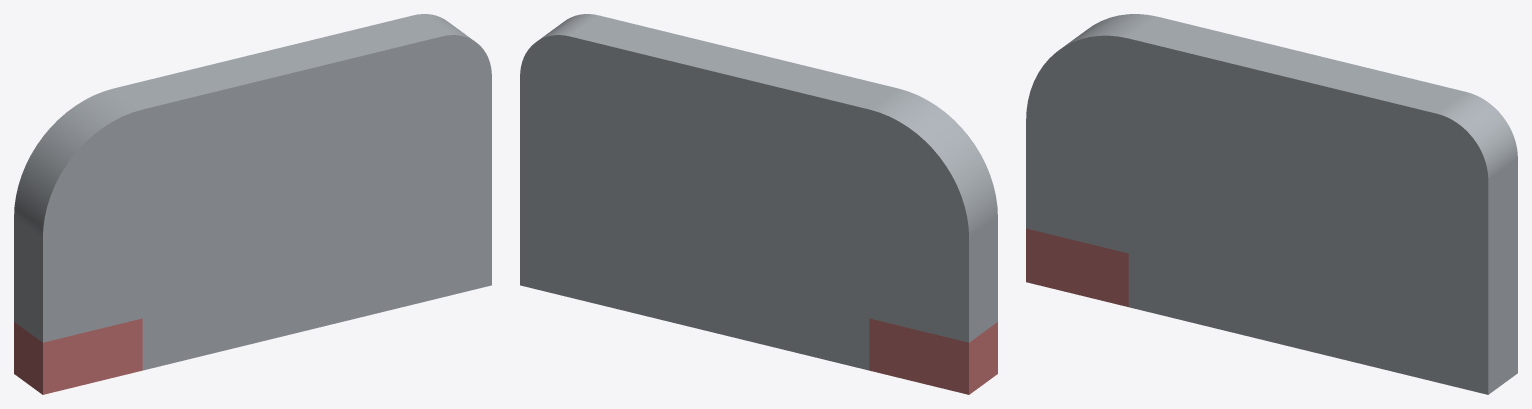
File: step_04.glb
3 renders of one model, left to right at view 1: azimuth 30°, elevation 25°; view 2: azimuth 150°, elevation 25°; view 3: azimuth 330°, elevation 25°, orthographic. The views are drawn at different scales.
Visible parts, largest first — view 1: part__vee notch plate, removed__vee notch plate; view 2: part__vee notch plate, removed__vee notch plate; view 3: part__vee notch plate, removed__vee notch plate.
Part boxes in pixels (box(x1,y1,x2,y2)): part__vee notch plate: box(14, 14, 491, 370); removed__vee notch plate: box(14, 318, 142, 394); part__vee notch plate: box(520, 14, 997, 370); removed__vee notch plate: box(869, 318, 997, 394); part__vee notch plate: box(1026, 14, 1517, 394); removed__vee notch plate: box(1026, 228, 1128, 306).
Bounding box in the file's own units: 90 × 50 × 10.
